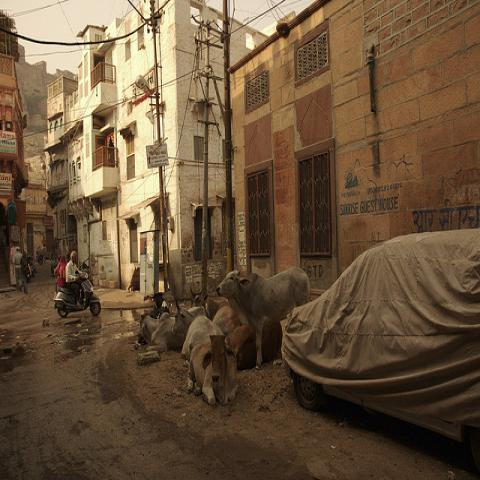car: (284, 230, 480, 472)
motorcycle: (54, 266, 100, 318), (51, 256, 58, 275)
